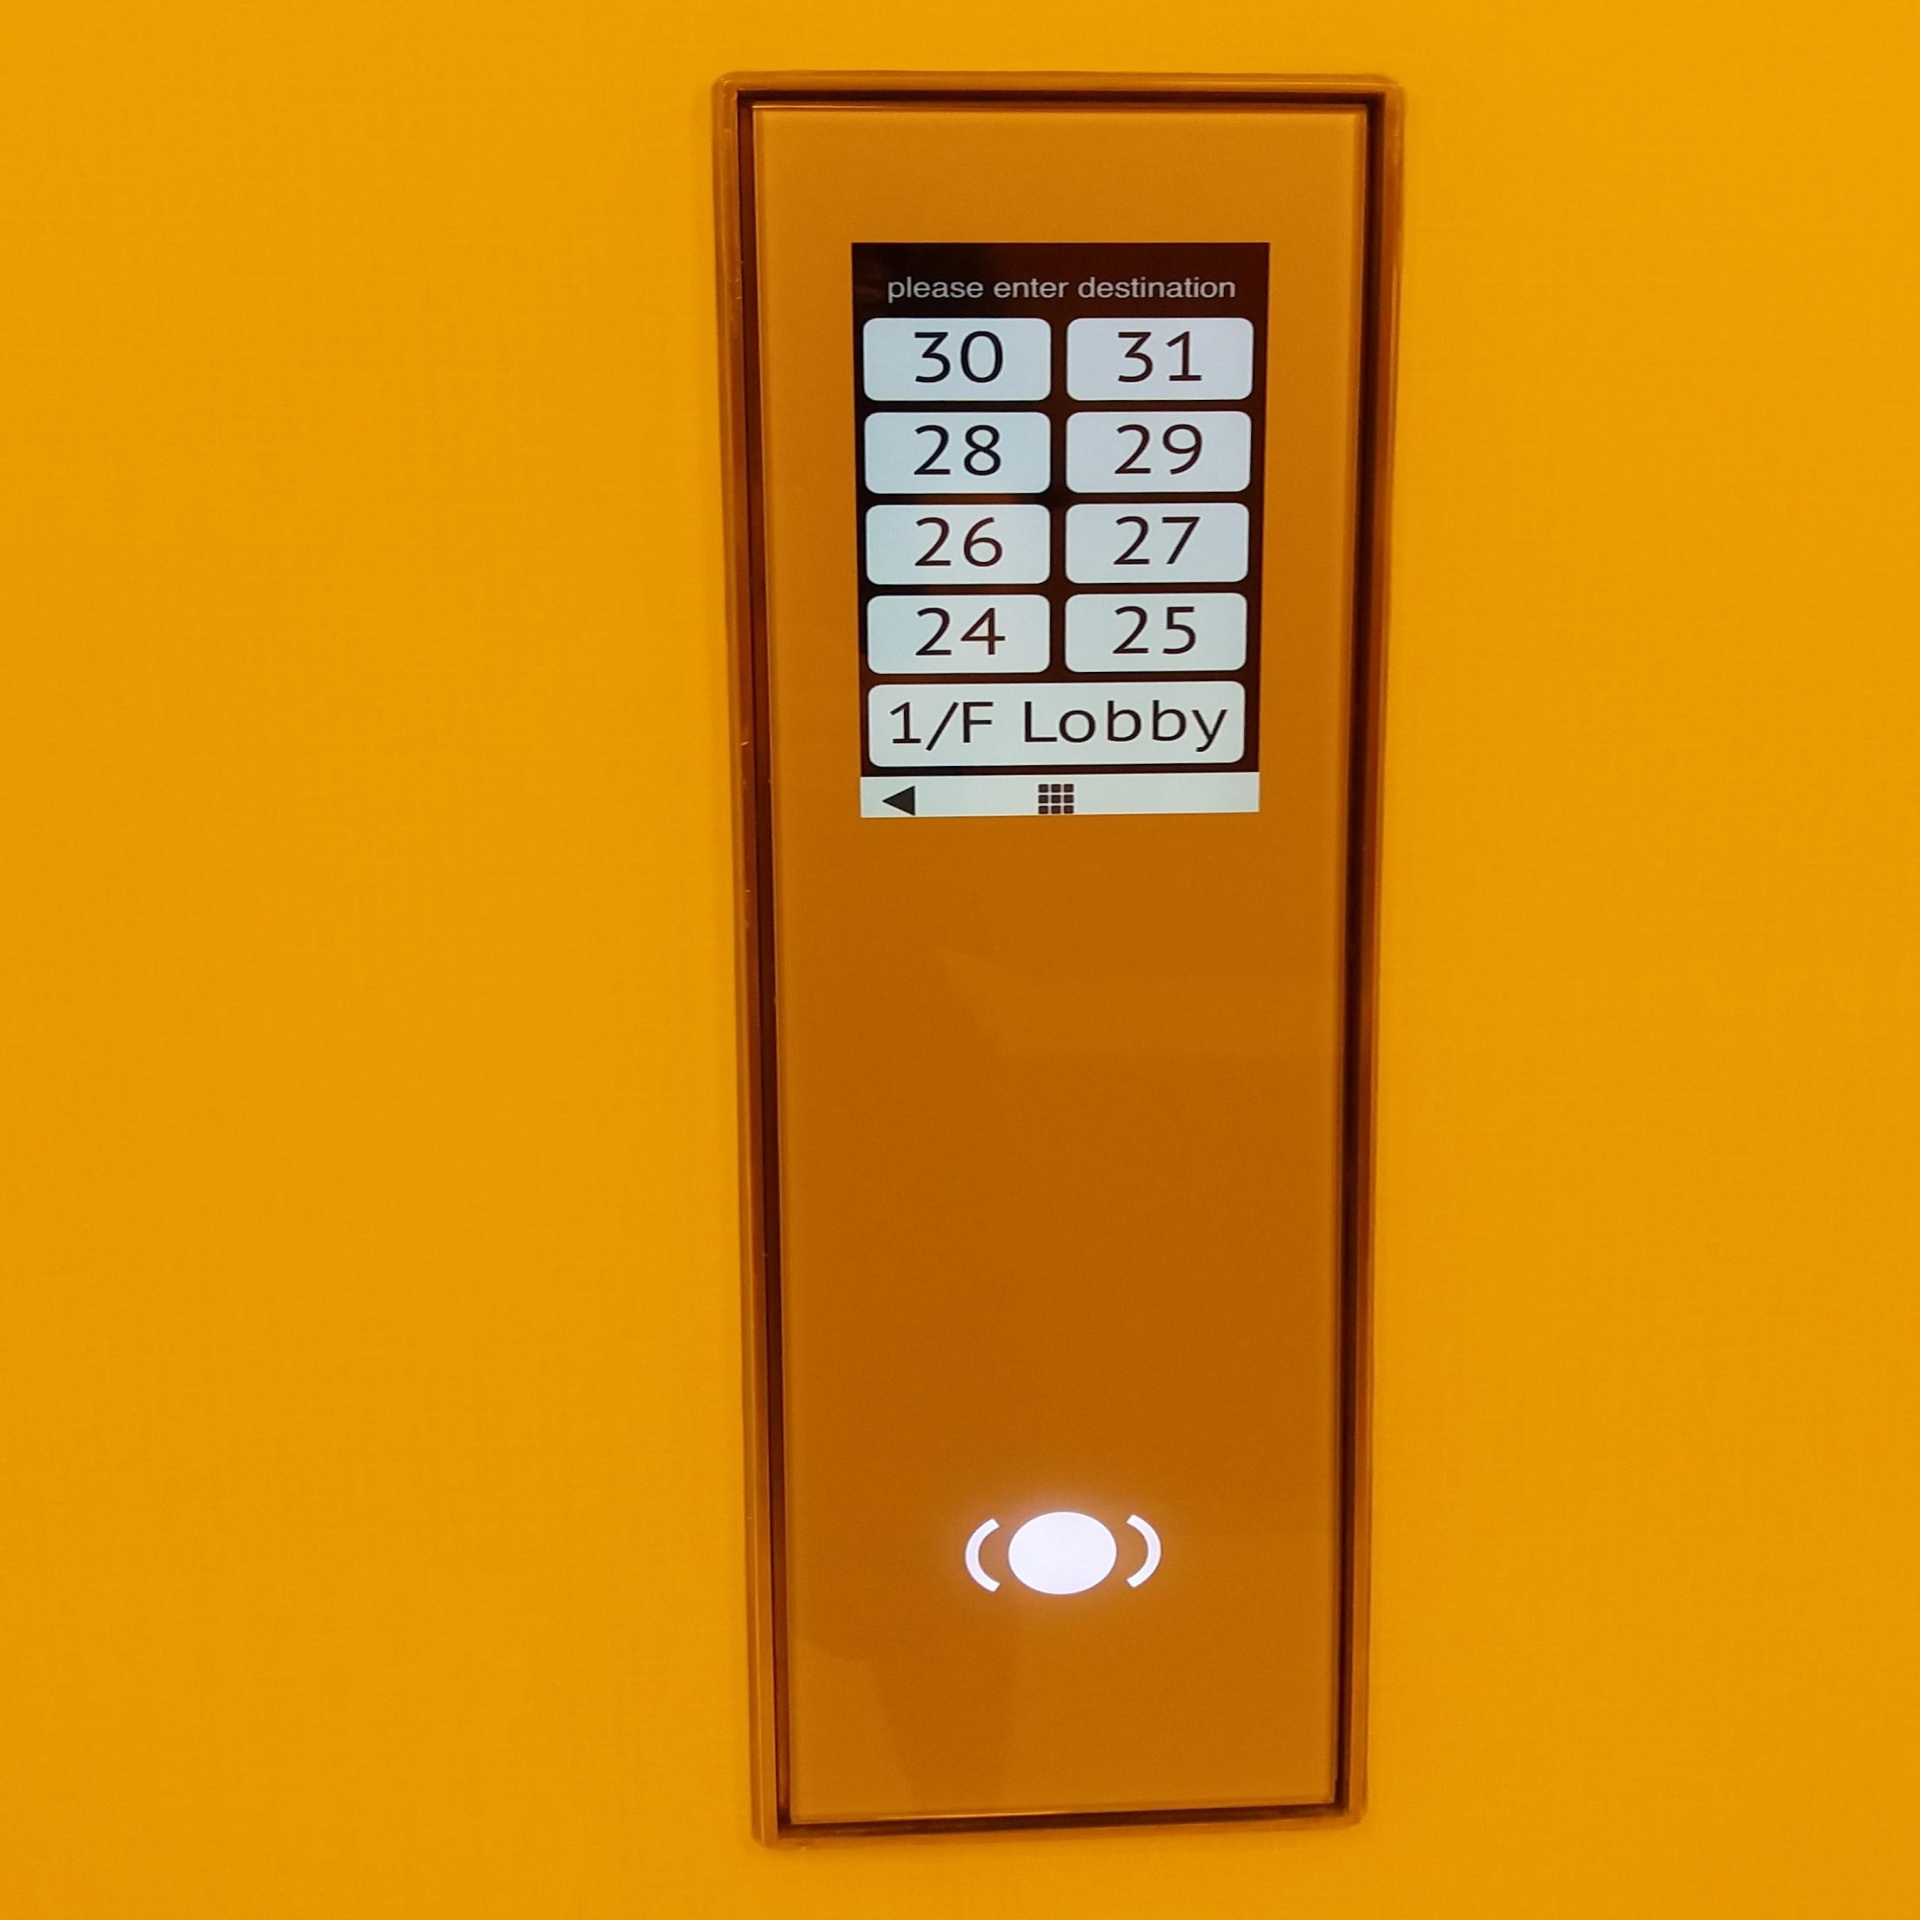24: (865, 591, 1055, 677)
25: (1060, 587, 1252, 677)
26: (863, 499, 1053, 589)
27: (1062, 499, 1254, 585)
28: (862, 408, 1057, 496)
29: (1062, 408, 1255, 496)
30: (862, 315, 1057, 404)
31: (1064, 315, 1257, 404)
text: (865, 675, 1250, 772)
